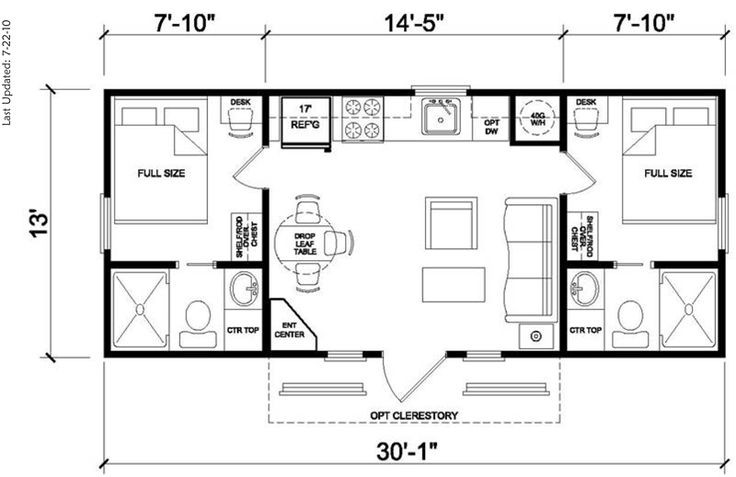door: (380, 340, 449, 404), (232, 144, 284, 193), (553, 149, 599, 200)
room: (260, 92, 568, 363), (563, 81, 730, 274), (101, 83, 274, 269), (563, 258, 727, 366), (105, 259, 275, 360)
wall: (99, 78, 416, 107), (465, 82, 728, 100), (561, 343, 730, 370), (98, 346, 329, 361), (556, 186, 572, 363), (712, 83, 735, 194), (98, 85, 117, 196), (715, 247, 731, 365), (101, 249, 117, 362), (649, 252, 729, 274), (259, 255, 276, 353), (109, 253, 183, 275), (257, 182, 276, 259), (212, 254, 272, 278), (255, 97, 276, 153), (555, 94, 573, 156), (501, 345, 562, 363), (503, 94, 522, 149), (571, 260, 623, 274), (441, 346, 469, 365), (363, 345, 383, 366)
window: (412, 77, 469, 103), (94, 197, 120, 253), (710, 194, 731, 254), (466, 341, 504, 370), (326, 344, 367, 365)
